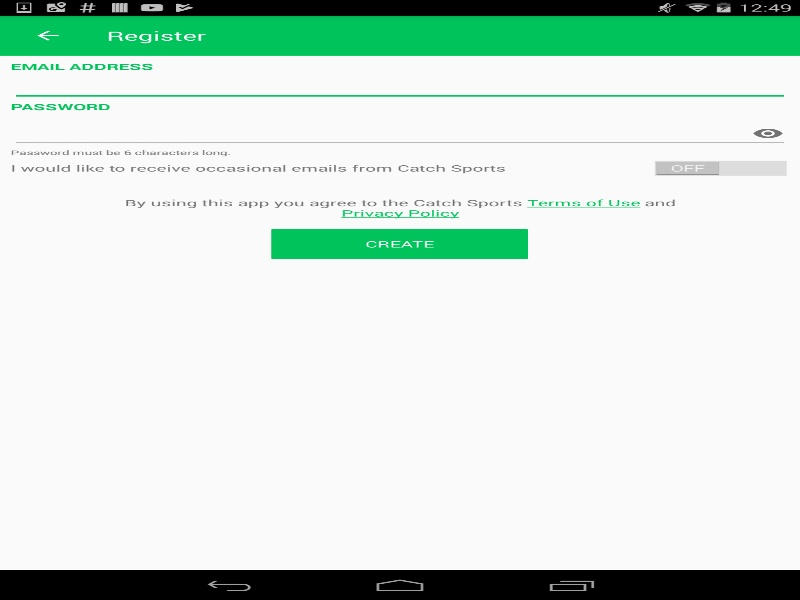Button: (271, 229, 528, 259), (10, 15, 85, 55), (746, 119, 789, 147)
Input: (10, 119, 789, 148), (10, 72, 789, 100)
